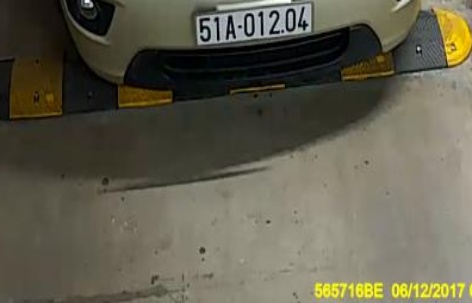plate: (194, 4, 318, 48)
